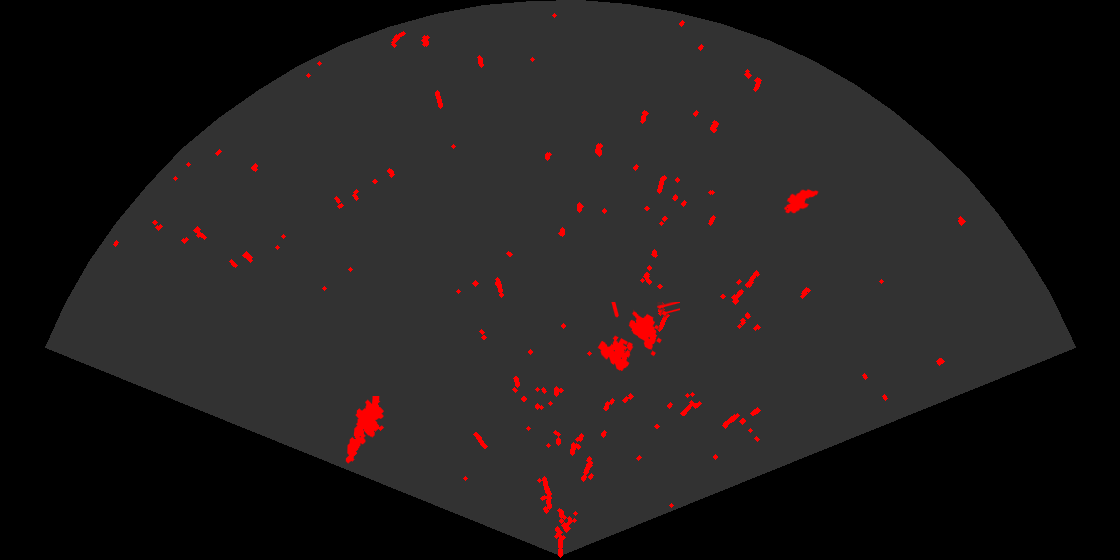AUV: (782, 187, 820, 215)
cage: (596, 302, 680, 373)
frogman: (344, 396, 386, 465)
